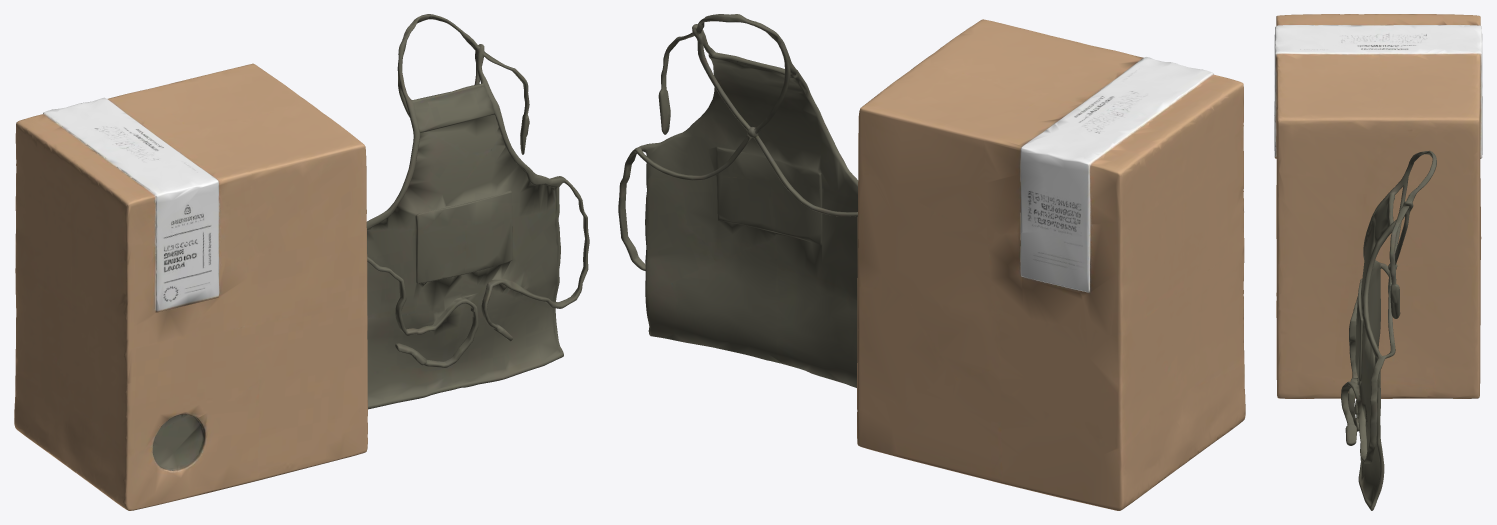
3 renders of one model, left to right at view 1: azimuth 30°, elevation 25°; view 2: azimuth 150°, elevation 25°; view 3: azimuth 270°, elevation 25°, orthographic. The views are drawn at different scales.
Parts seen in each view (by area): view 1: tripo_node_da25f031-6467-4fb2-b51f-5d1eb6f6c605; view 2: tripo_node_da25f031-6467-4fb2-b51f-5d1eb6f6c605; view 3: tripo_node_da25f031-6467-4fb2-b51f-5d1eb6f6c605.
Part boxes in pixels (<box>): tripo_node_da25f031-6467-4fb2-b51f-5d1eb6f6c605: <box>14,14,589,510</box>; tripo_node_da25f031-6467-4fb2-b51f-5d1eb6f6c605: <box>618,14,1245,510</box>; tripo_node_da25f031-6467-4fb2-b51f-5d1eb6f6c605: <box>1274,14,1482,510</box>.
Bounding box in the file's own units: 0.9999 × 0.6427 × 0.3858.
Materials: 1 (1 with a texture image).
